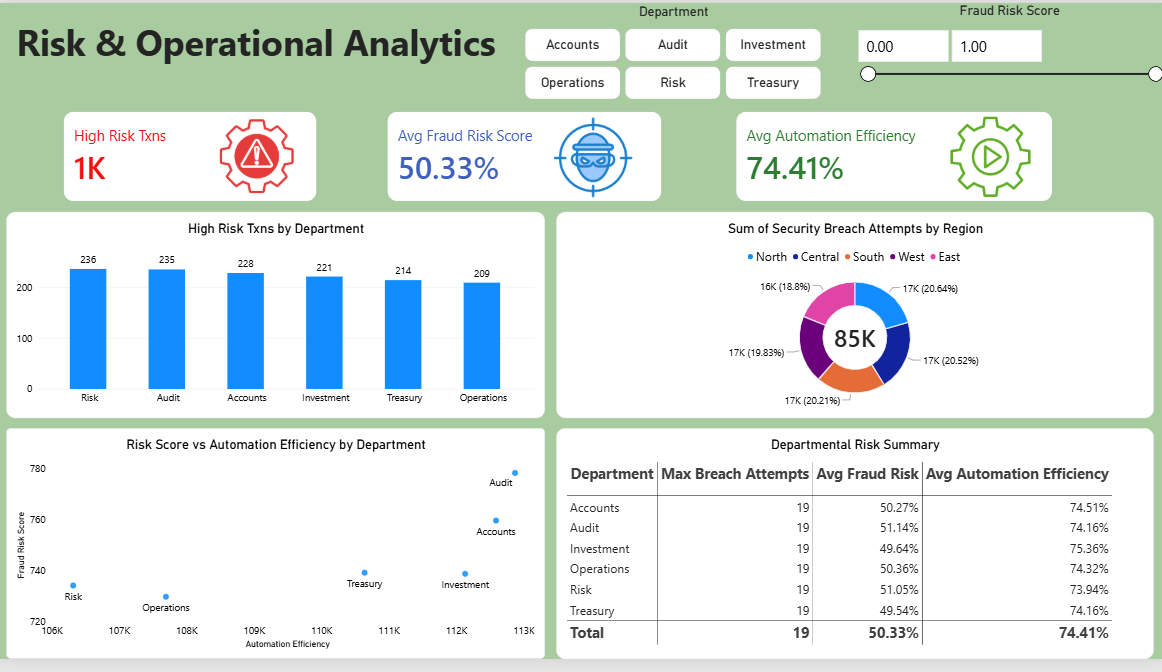

The page's visual inventory and layout, read from the dashboard file:
{"tool":"powerbi","page":{"name":"Risk & Operational Analytics","canvas":[1920,1080],"ordinal":1},"visuals":[{"type":"textbox","box":[11,24.3,822.4,99.2],"z":0},{"type":"cardVisual","fields":{"Data":["_Key_Metrics.High Risk Txns"]},"box":[105.8,178.6,416.7,147.7],"z":1000},{"type":"cardVisual","fields":{"Data":["_Key_Metrics.Avg Fraud Risk Score"]},"box":[637.2,178.6,452,147.7],"z":2000},{"type":"cardVisual","fields":{"Data":["_Key_Metrics.Avg Automation Efficiency"]},"box":[1212.7,178.6,520.4,147.7],"z":3000},{"type":"columnChart","fields":{"Category":["Dim_Department.Department"],"Y":["_Key_Metrics.High Risk Txns"]},"box":[10.3,343.7,887.1,339.6],"z":4000},{"type":"donutChart","title":"Sum of Security Breach Attempts by Region","fields":{"Category":["Dim_Region.Region"],"Y":["Sum(Fact_Financials.Security_Breach_Attempts)"]},"box":[916,343.7,983.9,339.6],"z":5000},{"type":"advancedSlicerVisual","fields":{"Values":["Dim_Department.Department"]},"box":[864.3,2.2,489.5,156.5],"z":6000},{"type":"slicer","title":"Fraud Risk Score","fields":{"Values":["Fact_Financials.Fraud_Risk_Score"]},"box":[1406.7,0,513.7,158.8],"z":7000},{"type":"tableEx","title":"Departmental Risk Summary","fields":{"Values":["Dim_Department.Department","_Key_Metrics.Max_Breach_Attempts","_Key_Metrics.Avg_Fraud_Risk","_Key_Metrics.Avg_Automation_Efficiency"]},"box":[916,699.8,983.9,380.8],"z":8000},{"type":"scatterChart","title":"Risk Score vs Automation Efficiency by Department","fields":{"X":["Sum(Fact_Financials.Automation_Efficiency)"],"Y":["Sum(Fact_Financials.Fraud_Risk_Score)"],"Category":["Dim_Department.Department"]},"box":[10,700,887,380],"z":8001},{"type":"image","box":[883,179.1,187,150],"z":8002},{"type":"image","box":[1545.8,187.3,170.8,131.7],"z":8003},{"type":"image","box":[354,191.4,137.9,121.4],"z":8004}]}

Visuals, with their boxes in screenshot pixels (x1, y1, x2, y2), scaled from the page's 1920x1080 canvas onto the 1162x672 screenshot:
textbox: x1=7 y1=15 x2=504 y2=77
cardVisual - _Key_Metrics.High Risk Txns: x1=64 y1=111 x2=316 y2=203
cardVisual - _Key_Metrics.Avg Fraud Risk Score: x1=386 y1=111 x2=659 y2=203
cardVisual - _Key_Metrics.Avg Automation Efficiency: x1=734 y1=111 x2=1049 y2=203
columnChart - Dim_Department.Department x _Key_Metrics.High Risk Txns: x1=6 y1=214 x2=543 y2=425
"Sum of Security Breach Attempts by Region" donutChart: x1=554 y1=214 x2=1150 y2=425
advancedSlicerVisual - Dim_Department.Department: x1=523 y1=1 x2=819 y2=99
"Fraud Risk Score" slicer: x1=851 y1=0 x2=1161 y2=99
"Departmental Risk Summary" tableEx: x1=554 y1=435 x2=1150 y2=671
"Risk Score vs Automation Efficiency by Department" scatterChart: x1=6 y1=436 x2=543 y2=671
image: x1=534 y1=111 x2=648 y2=205
image: x1=936 y1=117 x2=1039 y2=198
image: x1=214 y1=119 x2=298 y2=195
